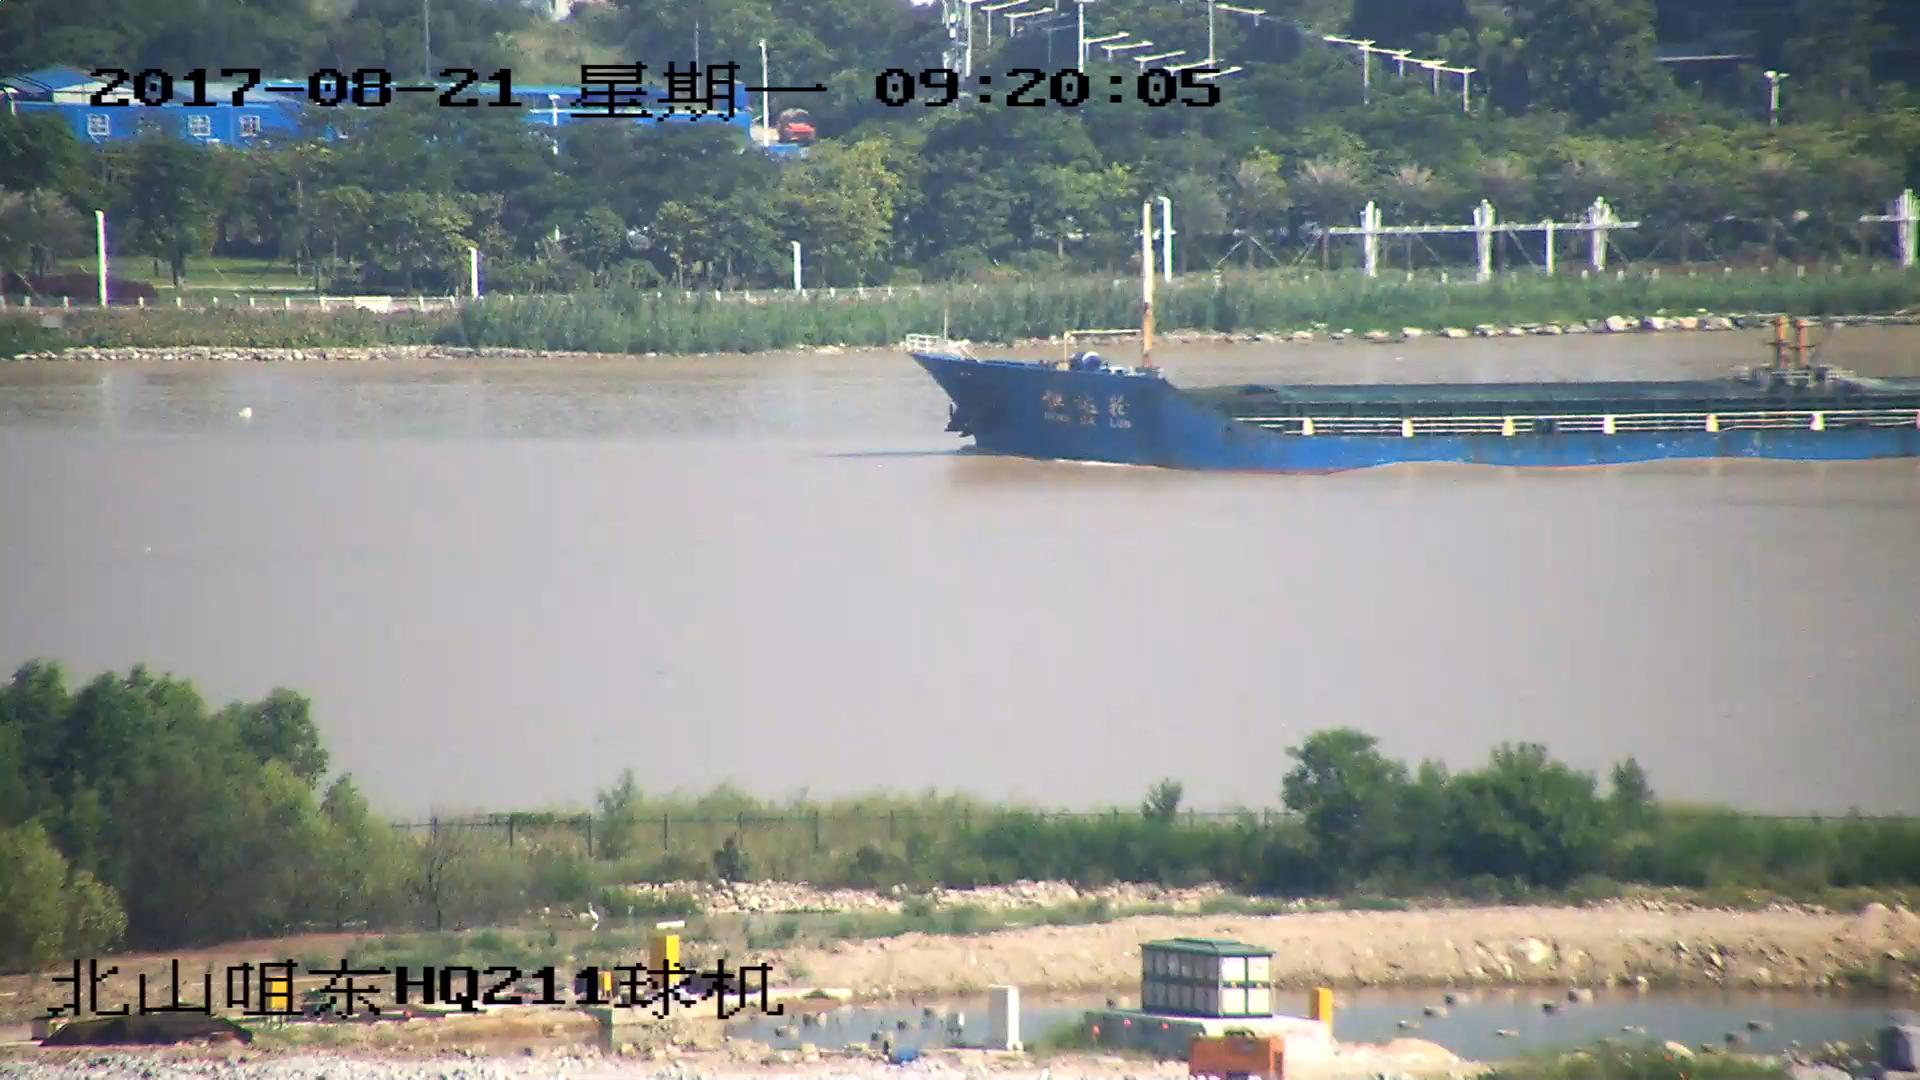general cargo ship: (899, 211, 1920, 471)
